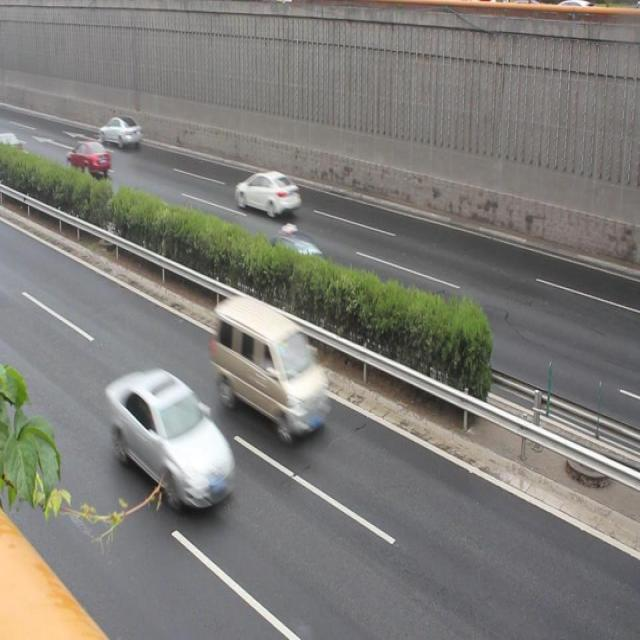car: (104, 364, 235, 506), (246, 233, 324, 288), (234, 169, 301, 220), (67, 139, 110, 180), (100, 114, 142, 149)
truck: (210, 292, 327, 432)
